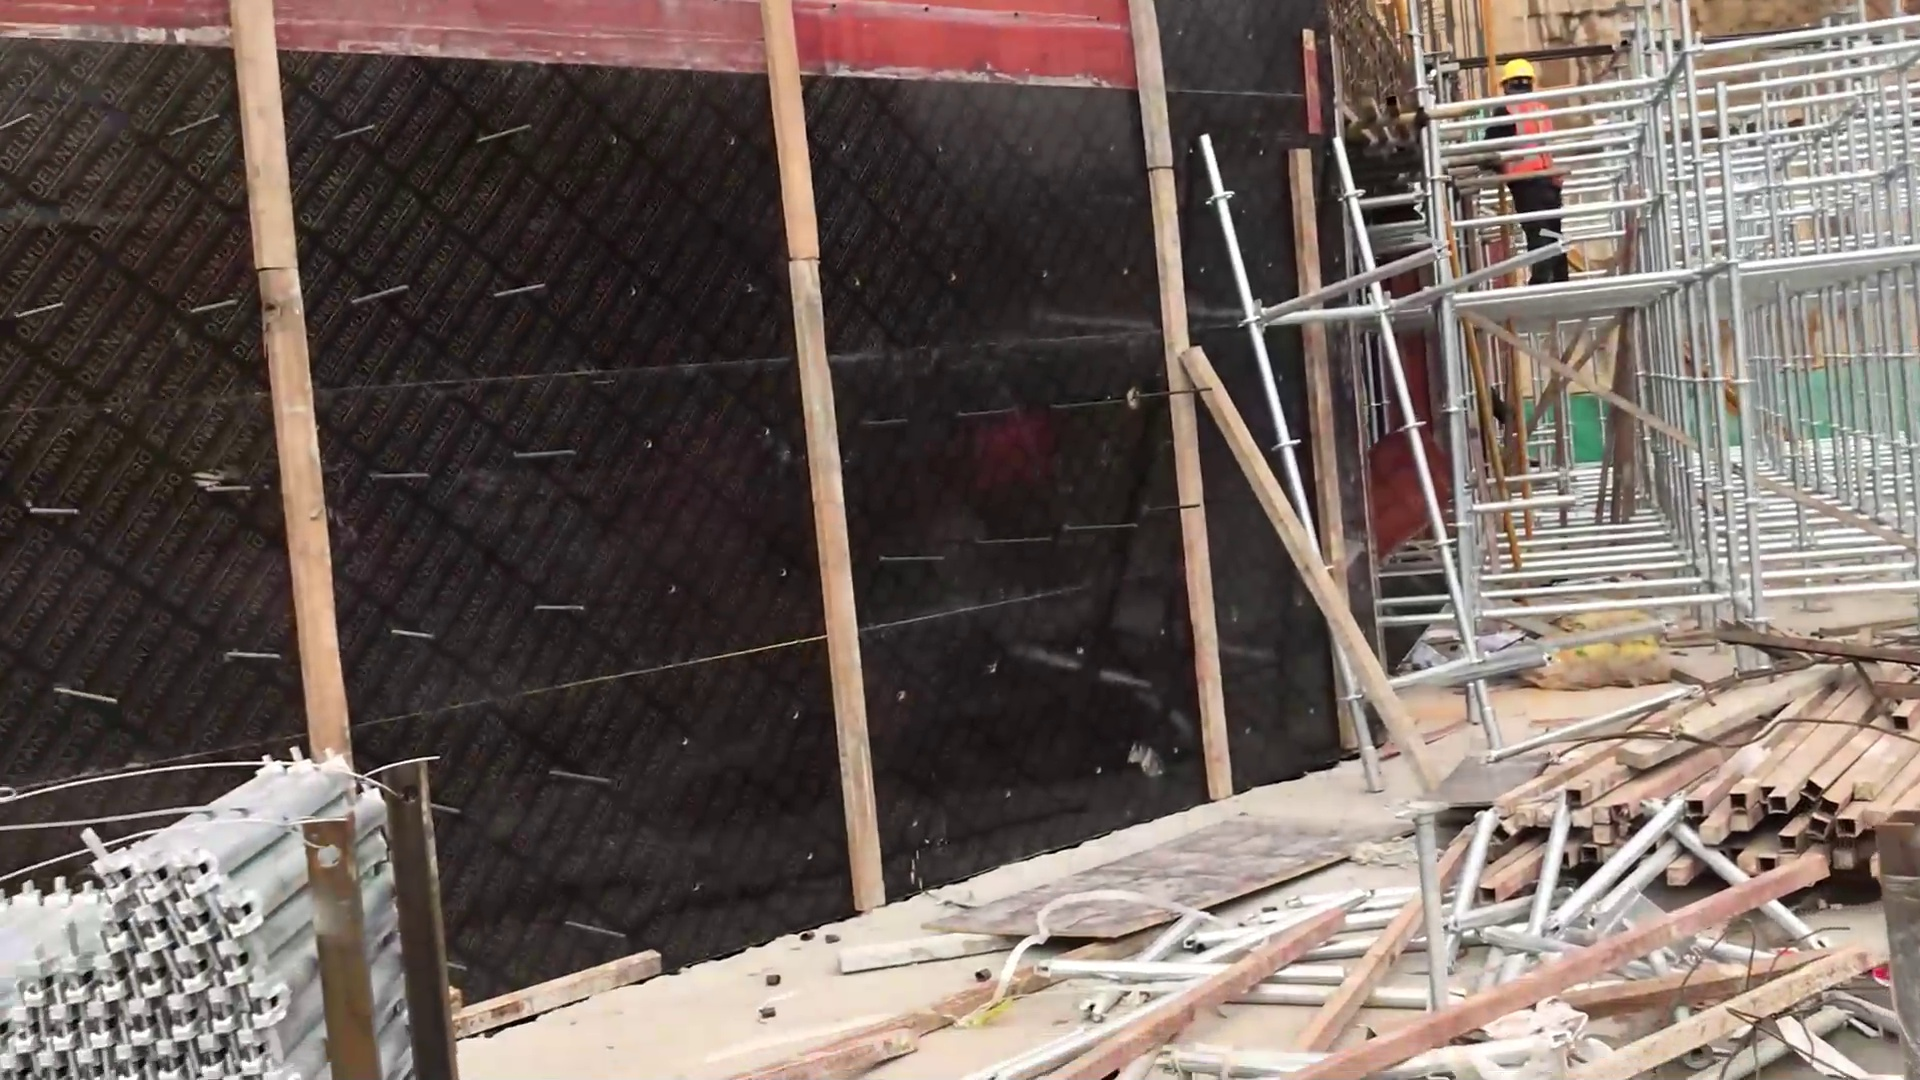helmet: (1491, 46, 1541, 96)
person: (1481, 53, 1584, 305)
scaffold: (15, 733, 467, 1080)
vest: (1493, 93, 1565, 188)
